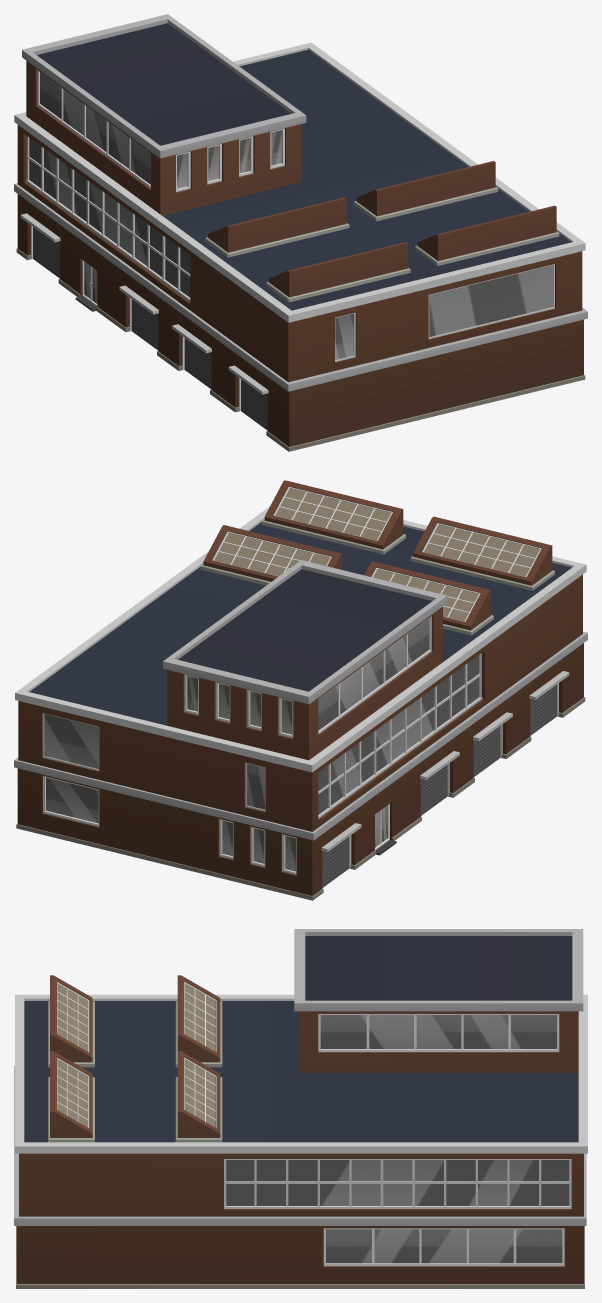
File: Building_Factory_4_B.fbx
3 views of the same model, one above another, from view 1: azimuth 30°, elevation 25°; view 2: azimuth 150°, elevation 25°; view 3: azimuth 270°, elevation 25° (orthographic). The views are drawn at different scales.
Parts seen in each view (by area): view 1: Building_Factory_4_B; view 2: Building_Factory_4_B; view 3: Building_Factory_4_B.
Part boxes in pixels (x1=…): Building_Factory_4_B: x1=14, y1=14, x2=587, y2=451; Building_Factory_4_B: x1=14, y1=480, x2=587, y2=900; Building_Factory_4_B: x1=14, y1=929, x2=587, y2=1288.
Bounding box in the file's own units: 1820 × 1159 × 2856.
